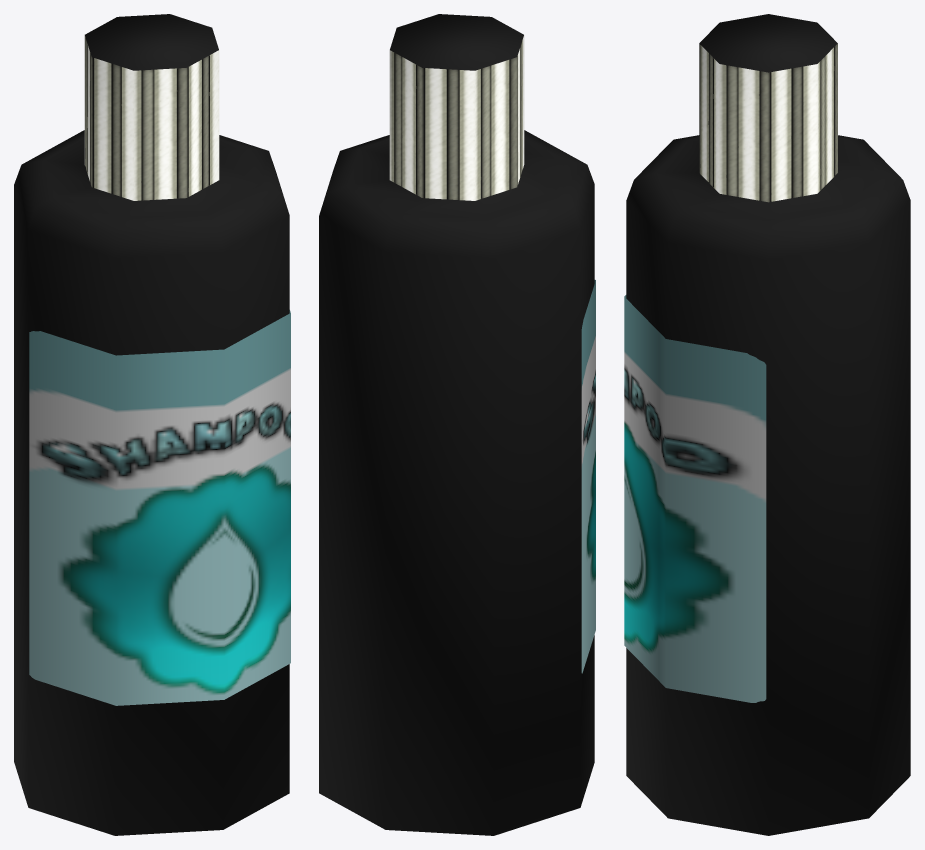
The model's file is Shampoo_3.FBX.
3 renders of one model, left to right at view 1: azimuth 30°, elevation 25°; view 2: azimuth 150°, elevation 25°; view 3: azimuth 270°, elevation 25°, orthographic.
Parts seen in each view (by area): view 1: Bottle; view 2: Bottle; view 3: Bottle.
Boxes of the visible parts, x1,y1,x2,y2 form: Bottle: (14,14,290,835); Bottle: (319,14,595,835); Bottle: (624,14,910,835).
Bounding box in the file's own units: 16.86 × 47.93 × 16.98.
